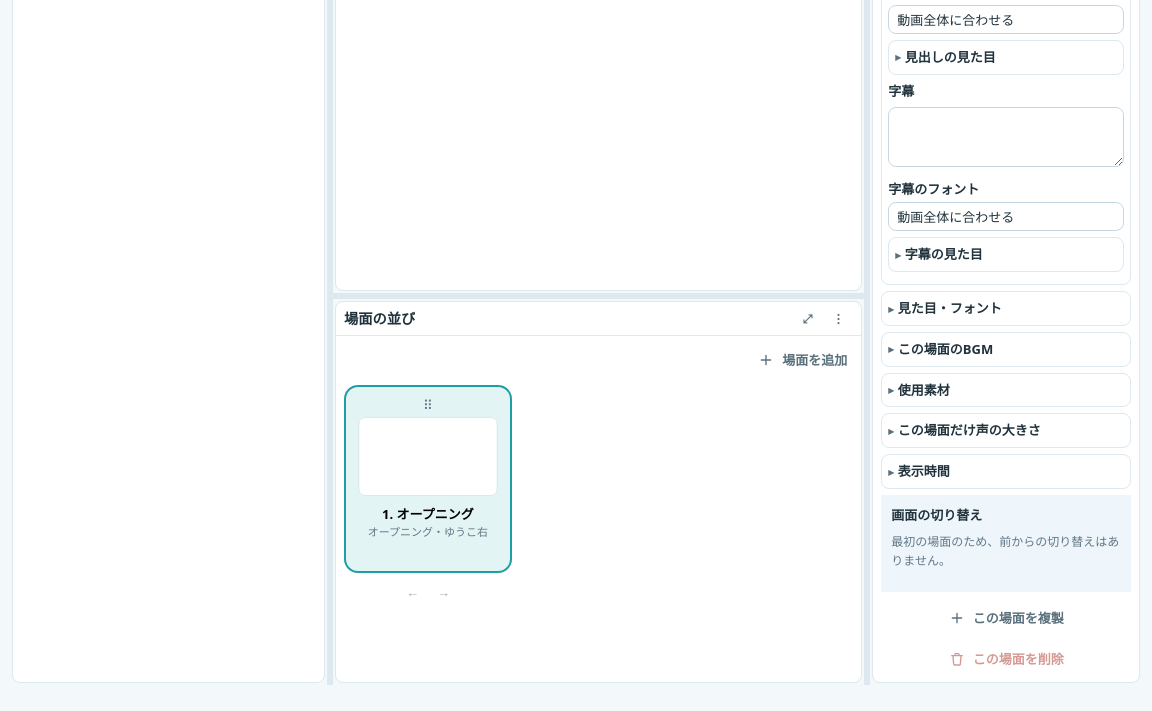
Test: SceneEditScreen 場面カードの右クリック（#772 候補6） › 場面が1つだけのときは削除を押せず、理由が出る
The width and height of the screenshot is (1152, 711).
(page scrolled)
Right-click the button "⠿ 1. オープニング オープニング・ゆうこ右".
right_click(428, 479)  # box [344, 386, 512, 573]
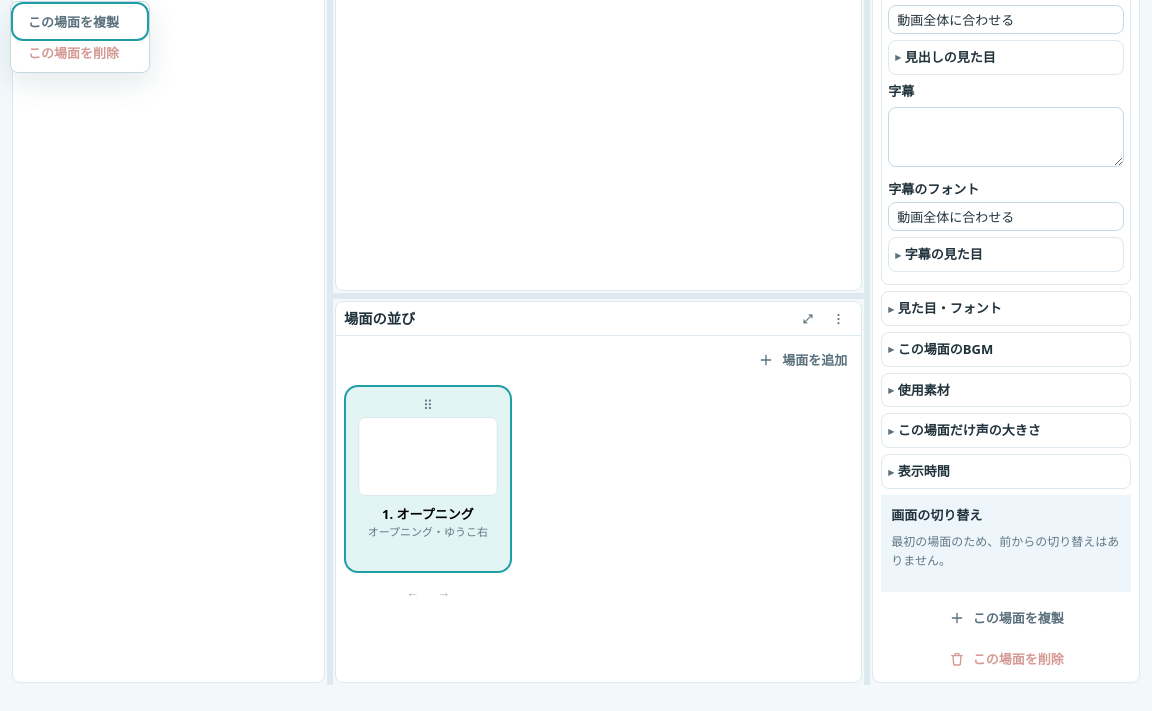
expect the menu item "この場面を削除" is disabled: met, box [15, 37, 145, 68]
